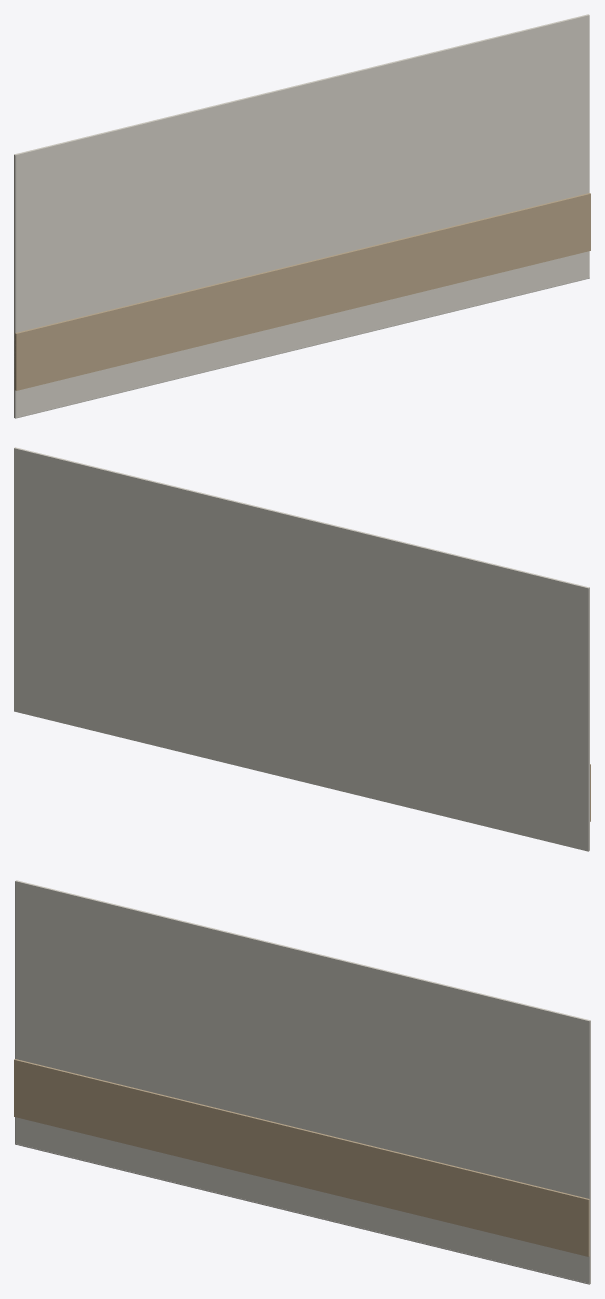
3 renders of one model, top to bottom at view 1: azimuth 30°, elevation 25°; view 2: azimuth 150°, elevation 25°; view 3: azimuth 330°, elevation 25°, orthographic.
Parts seen in each view (by area): view 1: Tiles, Band, GroutHorizontal; view 2: Tiles; view 3: Tiles, Band, GroutHorizontal.
Part boxes in pixels (x1,y1,x2,y2): Tiles: [14, 14, 589, 418]; Band: [14, 193, 590, 390]; GroutHorizontal: [16, 277, 589, 418]; Tiles: [14, 447, 589, 851]; Tiles: [15, 880, 590, 1284]; Band: [14, 1059, 589, 1256]; GroutHorizontal: [16, 1144, 589, 1284].
Bounding box in the file's own units: 1.37 × 0.6 × 0.01.
